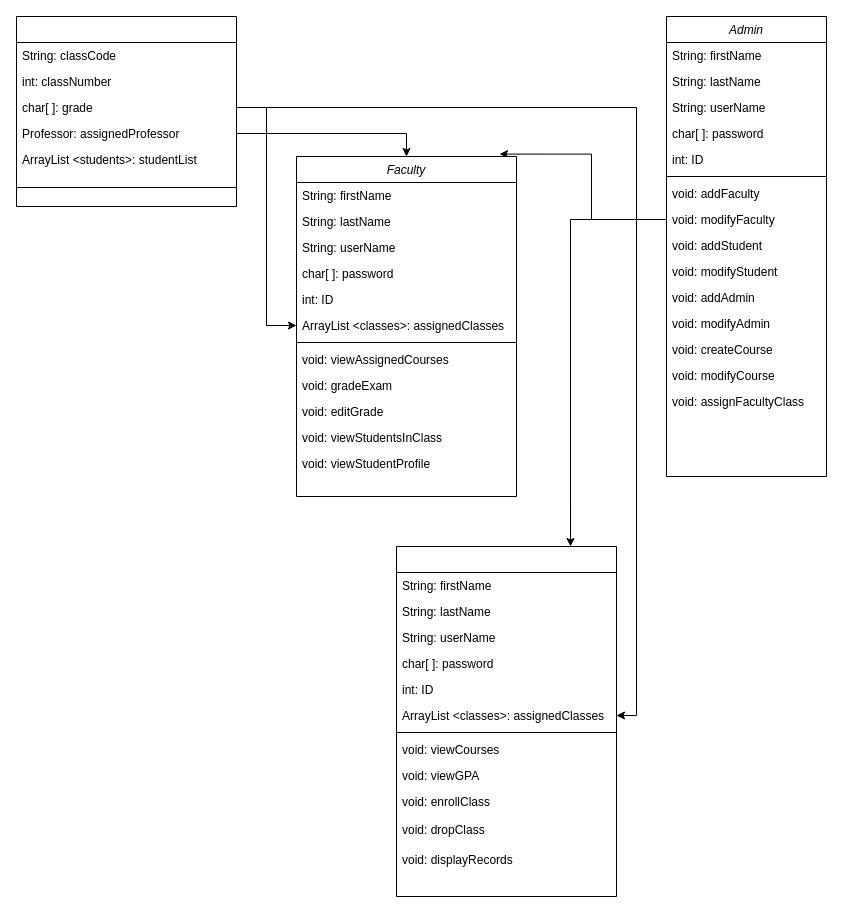
The diagram is 843 pixels wide and 913 high, and some of its shapes have lost their labels. Each missing label, with the box of its shape:
Classes: (16, 16, 236, 206)
Student: (396, 546, 616, 896)
